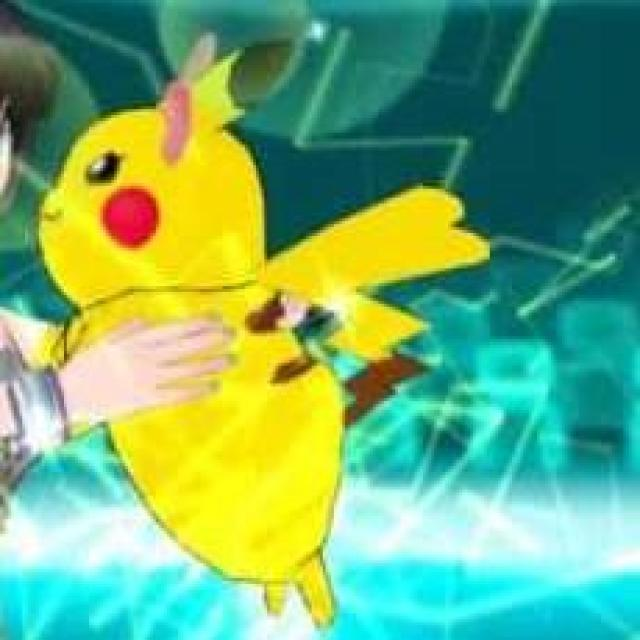pikachu: (30, 38, 493, 630)
